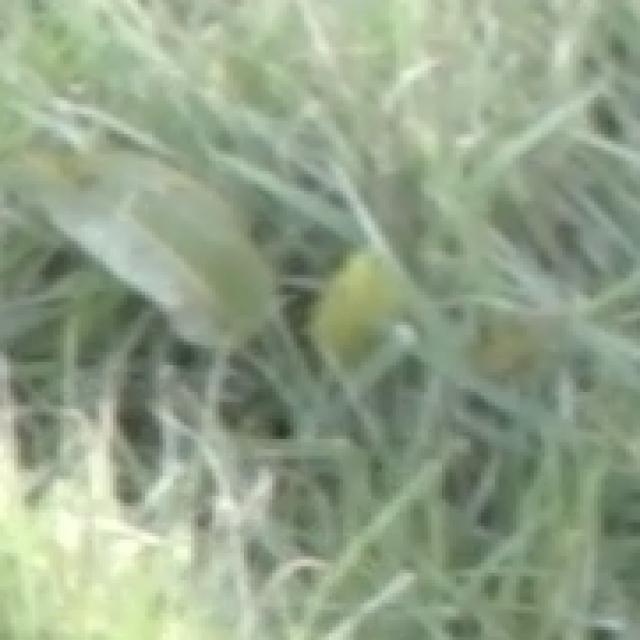organic waste: (0, 87, 446, 449)
